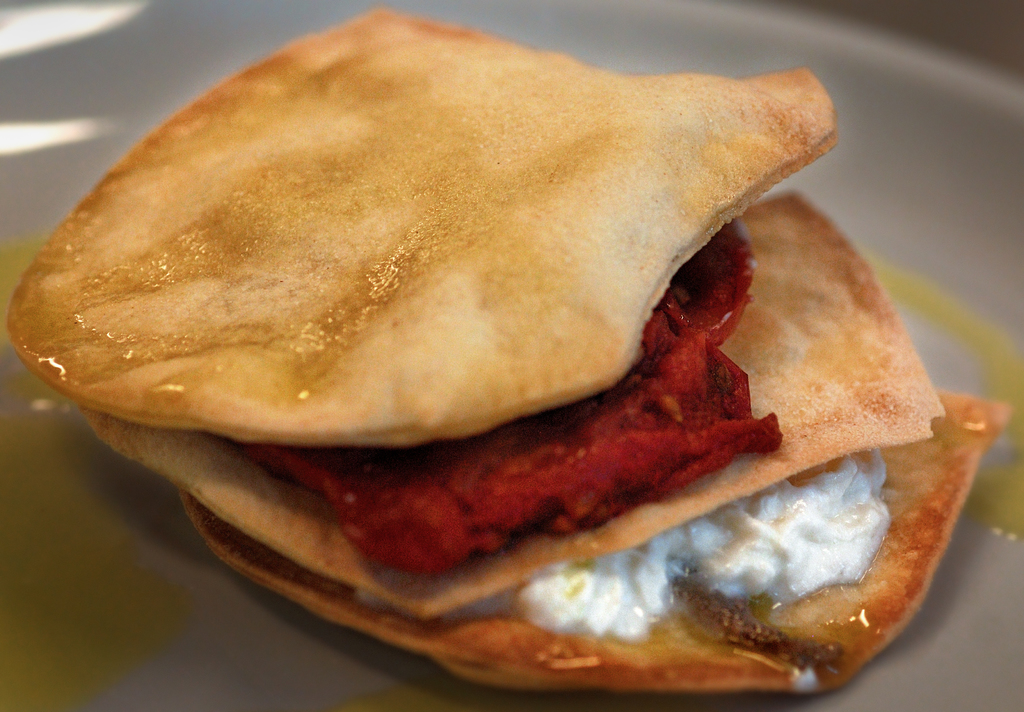sandwich: (6, 8, 1013, 695)
